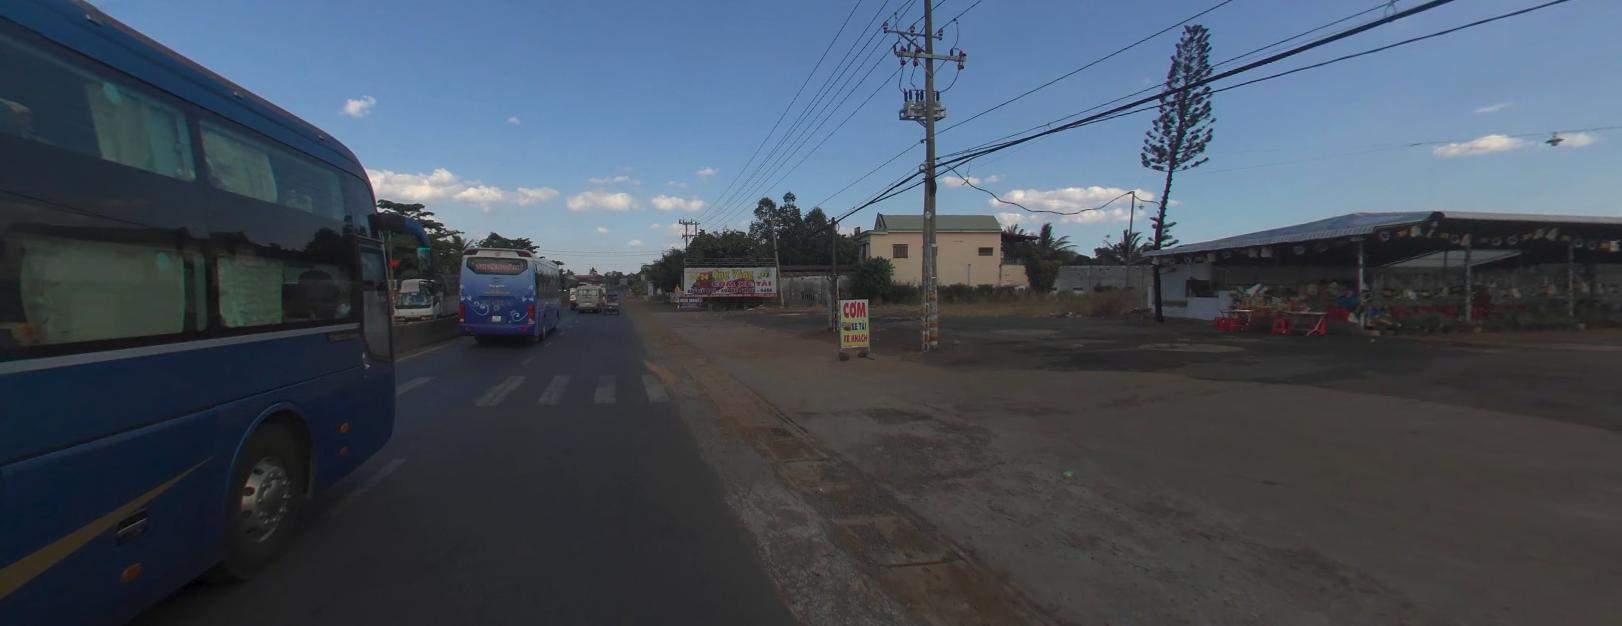Nguy hiem: (674, 282, 680, 289)
